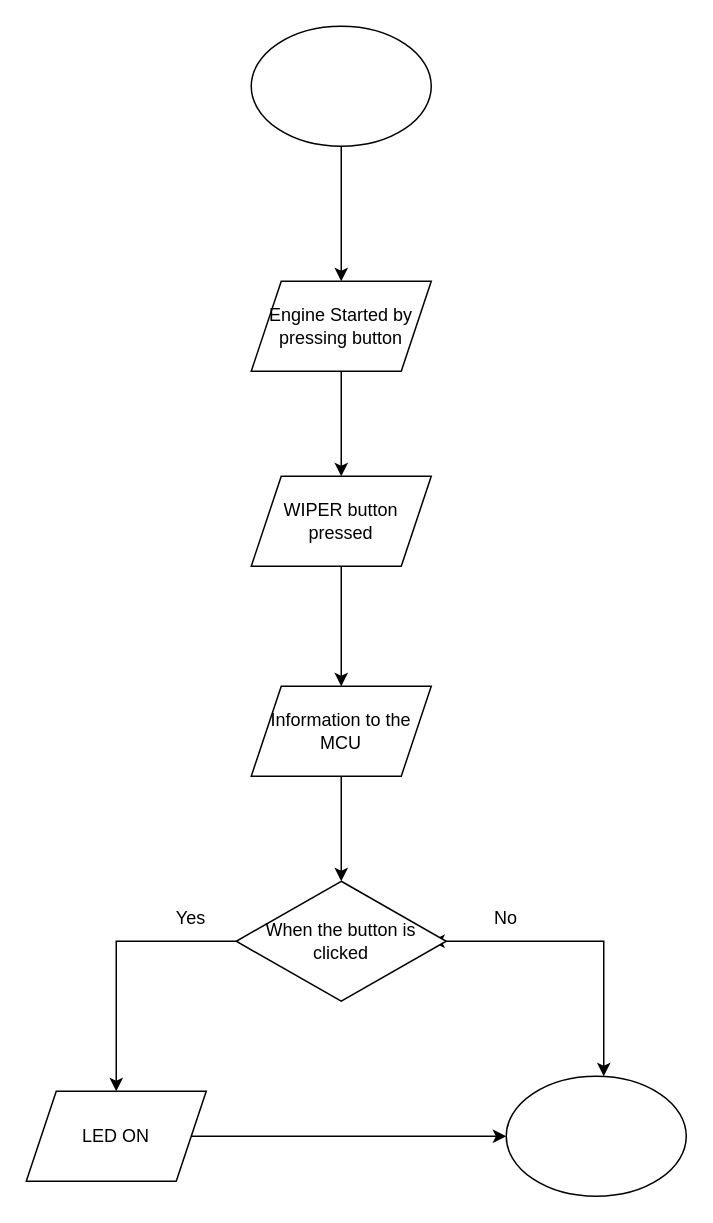
This 713x1223 diagram has some shape labels left out. The shapes that lost their labels are listed below. From the top down, each one's box as (x1, y1, x2, y2) in pixels, then its label:
(250, 25, 431, 146): START
(505, 1075, 686, 1196): END
